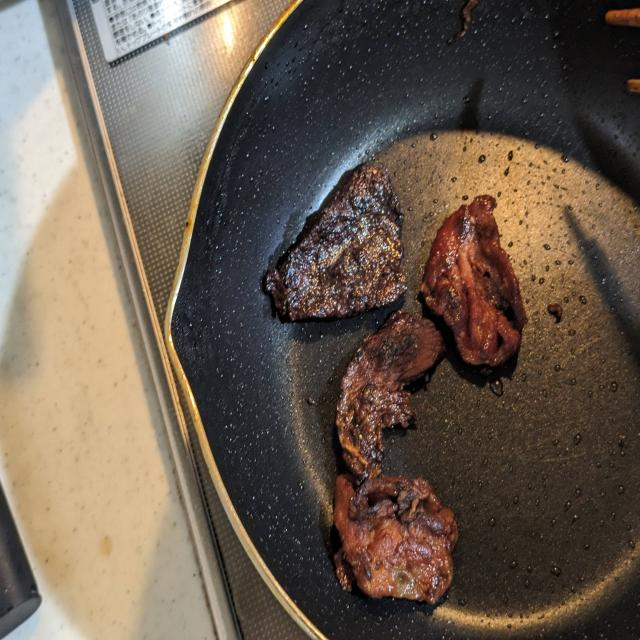overcooked beef,: (251, 152, 410, 328), (331, 298, 447, 487)
overcooked pork: (413, 189, 536, 382), (331, 463, 465, 618)
